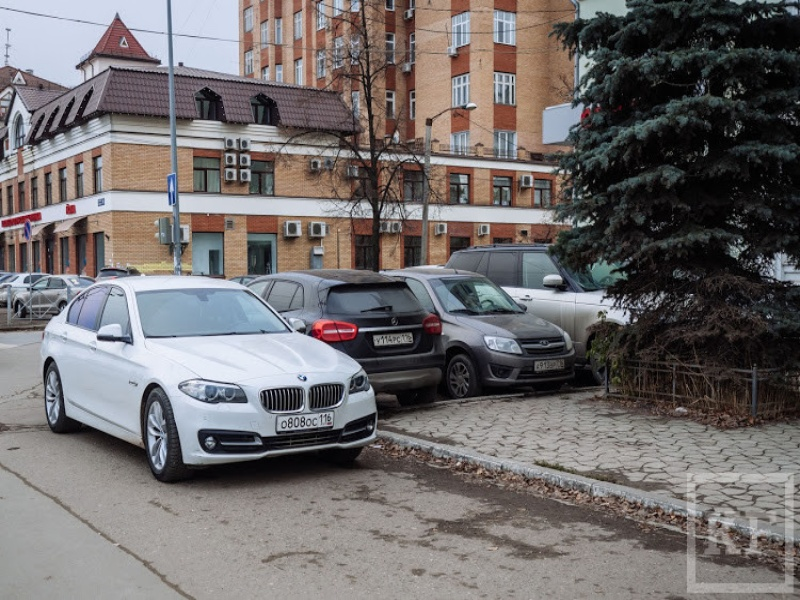car: (40, 276, 378, 480), (445, 245, 676, 380), (245, 268, 443, 406), (384, 266, 576, 397), (13, 275, 92, 320)
plate: (276, 411, 332, 430), (374, 332, 412, 345), (533, 359, 564, 372)
